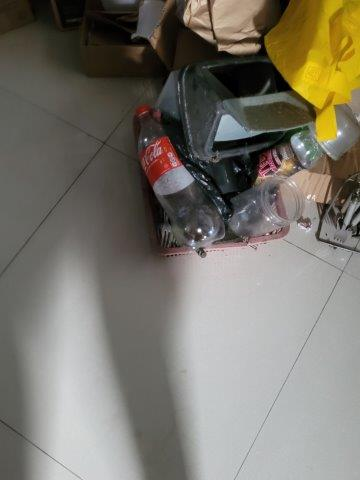botolplastik: (136, 106, 225, 244), (247, 127, 319, 183)
